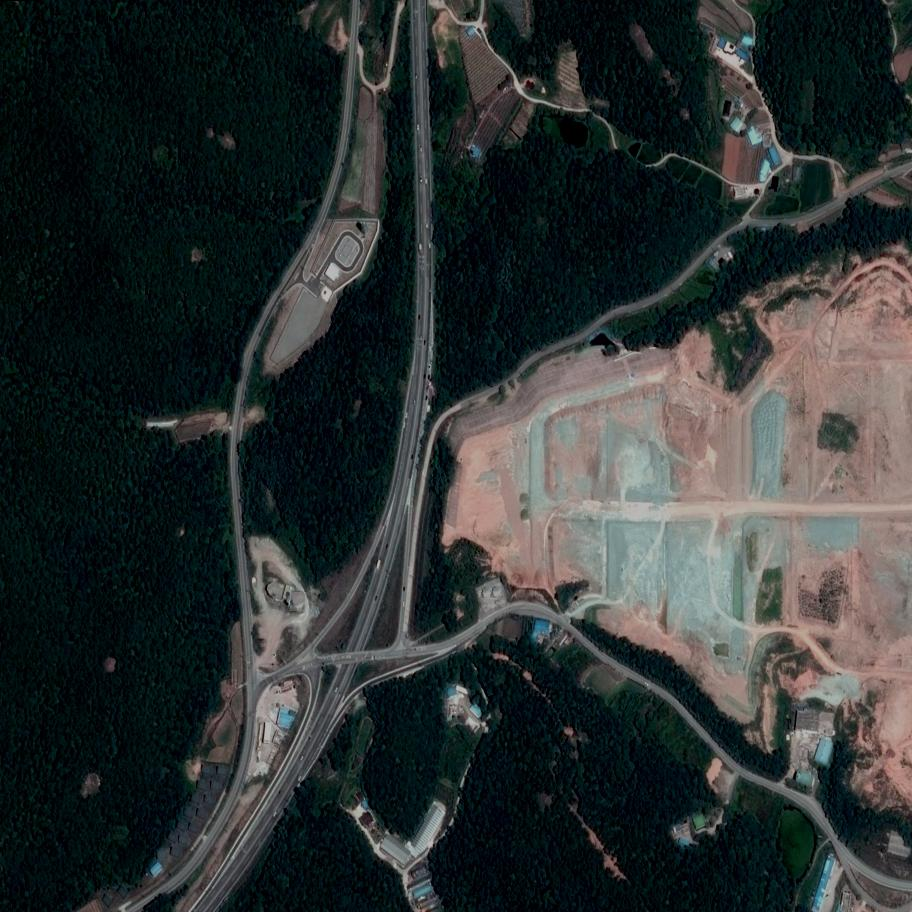storage-tank: (290, 593, 308, 612), (481, 586, 503, 598)
